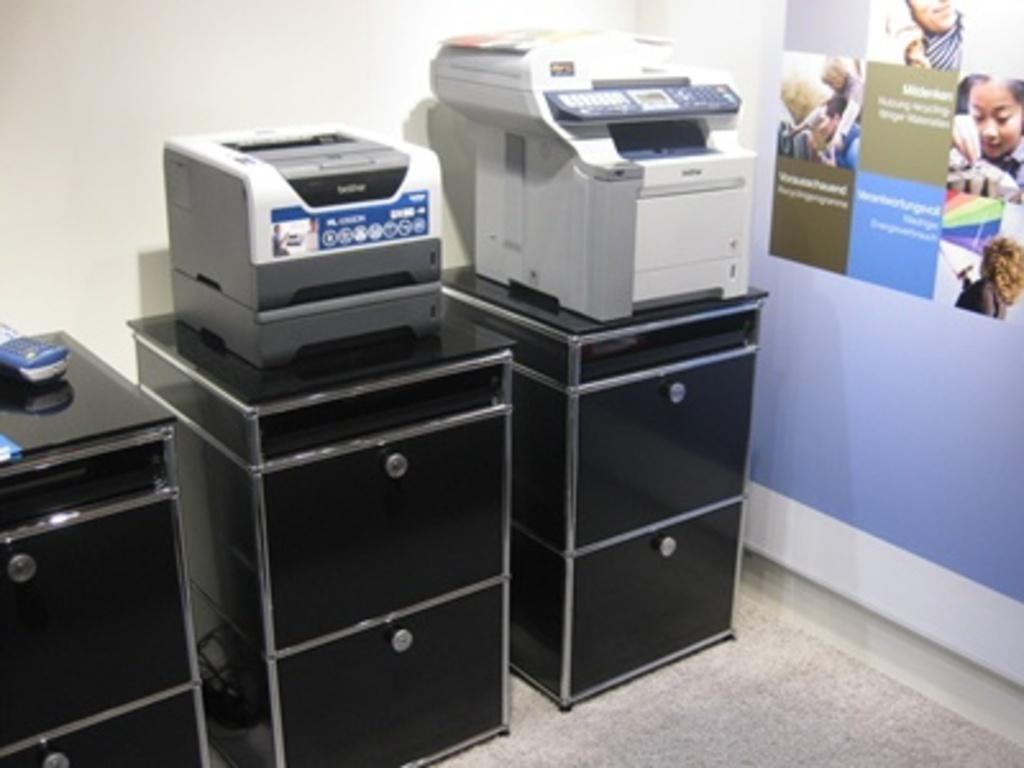Filing Cabinet: (247, 352, 511, 767), (560, 301, 763, 708)
